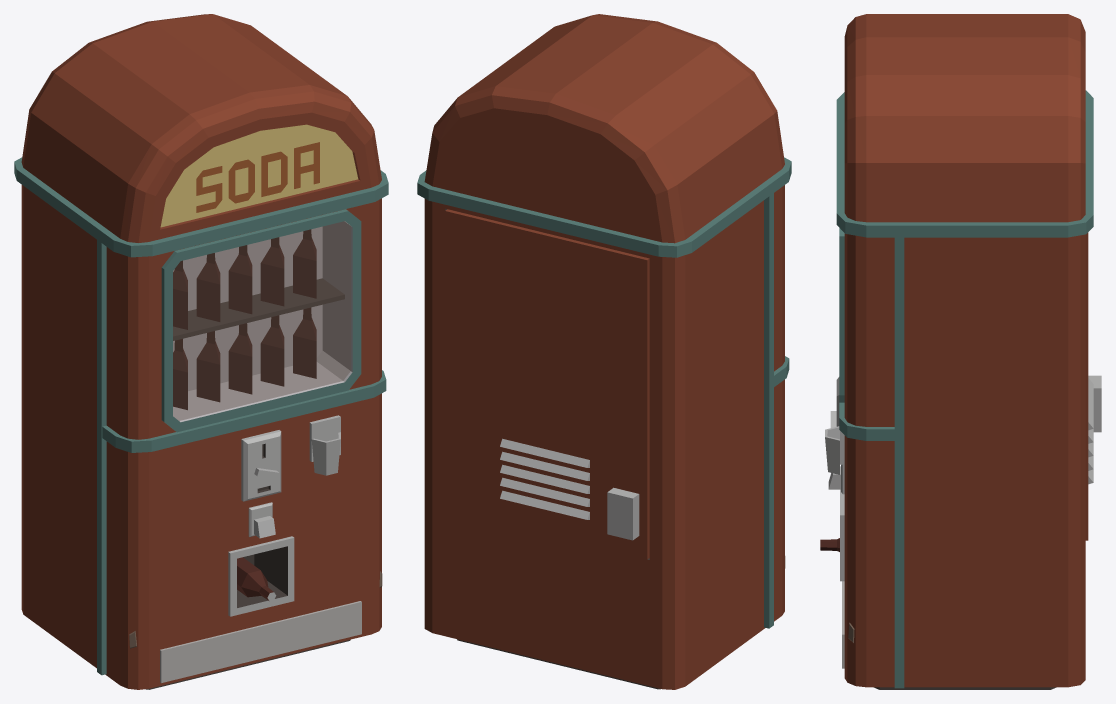
Rendered from soda-vending-machine-4a5347.glb.
The picture shows the model from 3 angles, left to right: view 1: azimuth 30°, elevation 25°; view 2: azimuth 150°, elevation 25°; view 3: azimuth 270°, elevation 25°; orthographic projection. The views are drawn at different scales.
Parts seen in each view (by area): view 1: cabinet, glass-front, header-sign, bottle-mesh; view 2: cabinet, door-back-mesh; view 3: cabinet, door-back-mesh.
Part boxes in pixels (x1,y1,x2,y2): cabinet: (14, 14, 388, 689); glass-front: (173, 221, 350, 420); header-sign: (160, 124, 358, 227); bottle-mesh: (237, 557, 276, 601); cabinet: (417, 14, 791, 689); door-back-mesh: (445, 209, 649, 559); cabinet: (825, 14, 1093, 689); door-back-mesh: (1085, 232, 1101, 540).
Size of the model in its own units: 0.746 by 1.5 by 0.641.
